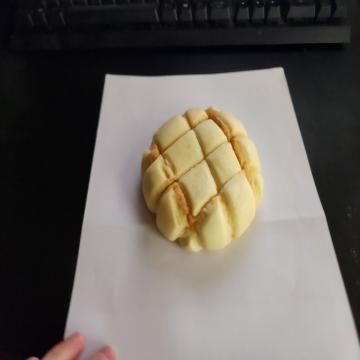melon_bread: (141, 106, 264, 254)
